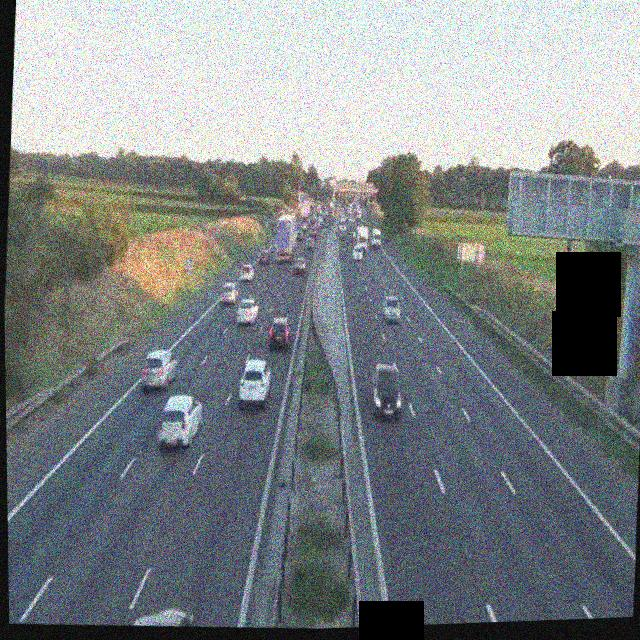car: (157, 393, 203, 451), (370, 363, 403, 421), (127, 603, 200, 629), (238, 357, 273, 408), (140, 347, 178, 392), (267, 315, 291, 350), (382, 293, 402, 325), (237, 296, 258, 326), (220, 281, 238, 305), (239, 263, 255, 283), (294, 255, 308, 275), (259, 248, 272, 265), (353, 242, 366, 259), (305, 237, 314, 250), (311, 225, 320, 238), (340, 225, 347, 237)
truck: (273, 212, 297, 260), (370, 226, 381, 249)
